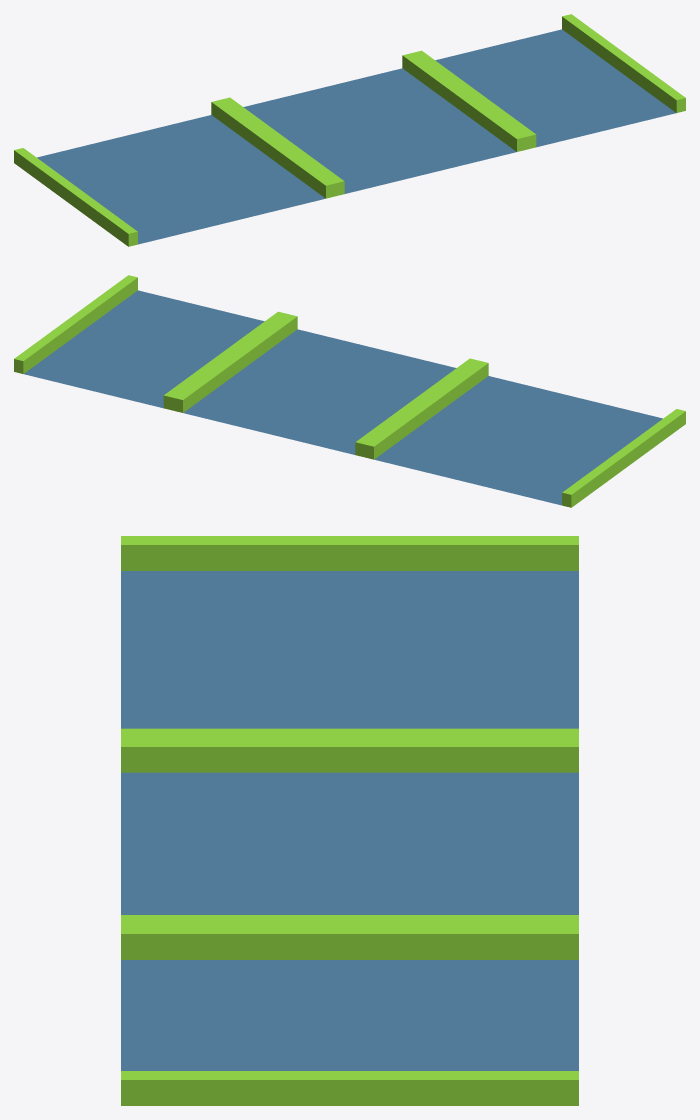
Rendered from driveway.fbx.
The picture shows the model from 3 angles, top to bottom: view 1: azimuth 30°, elevation 25°; view 2: azimuth 150°, elevation 25°; view 3: azimuth 270°, elevation 25°; orthographic projection. The views are drawn at different scales.
Visible parts, largest first — view 1: Plane.003; view 2: Plane.003; view 3: Plane.003.
Part boxes in pixels (<box>): Plane.003: <box>14,14,685,246</box>; Plane.003: <box>14,275,685,507</box>; Plane.003: <box>121,536,578,1105</box>.
Bounding box in the file's own units: 3841 × 85.19 × 1366.
